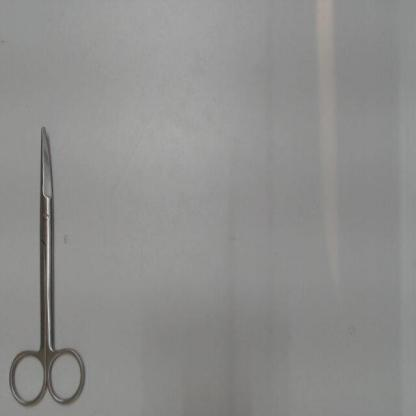Curved Mayo Scissors: (7, 120, 89, 410)
